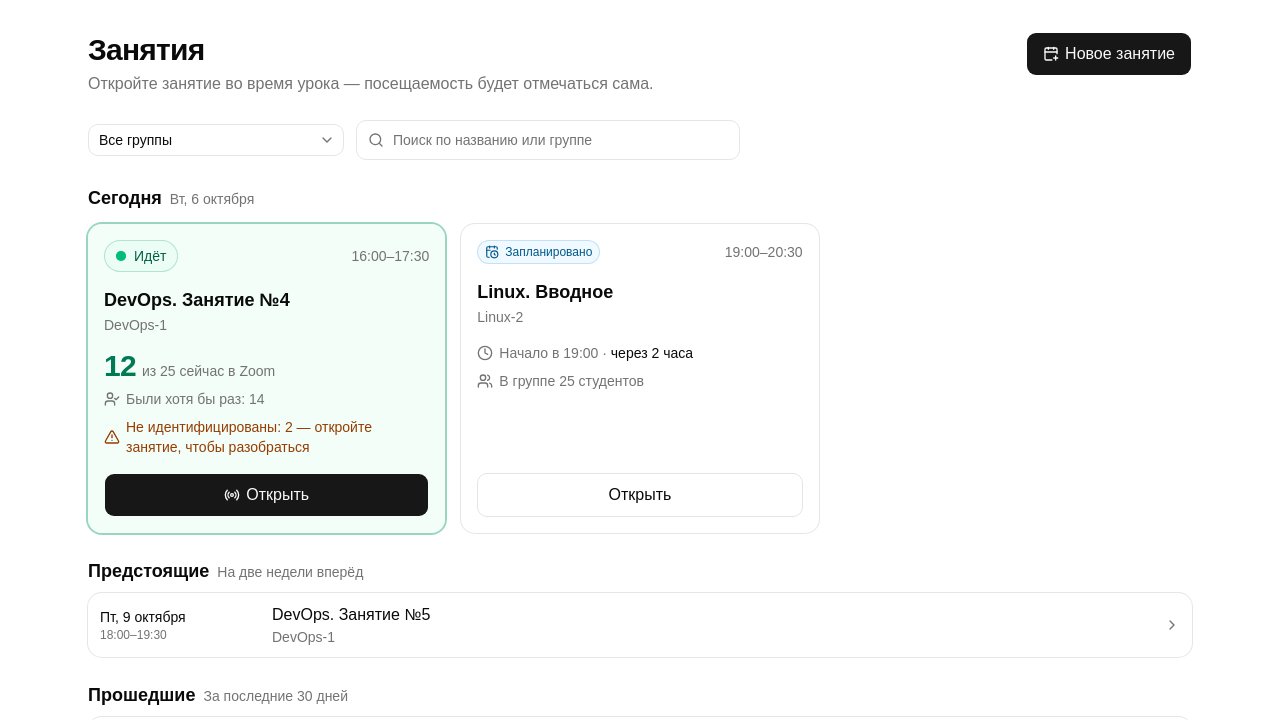
Test: LessonsPage › filters by group and by search text
Expected: the heading "Сегодня вт, 6 октября" is shown, [88, 188, 254, 208]
Click the dropdown named "Группа" at (216, 140), box [88, 124, 344, 156]
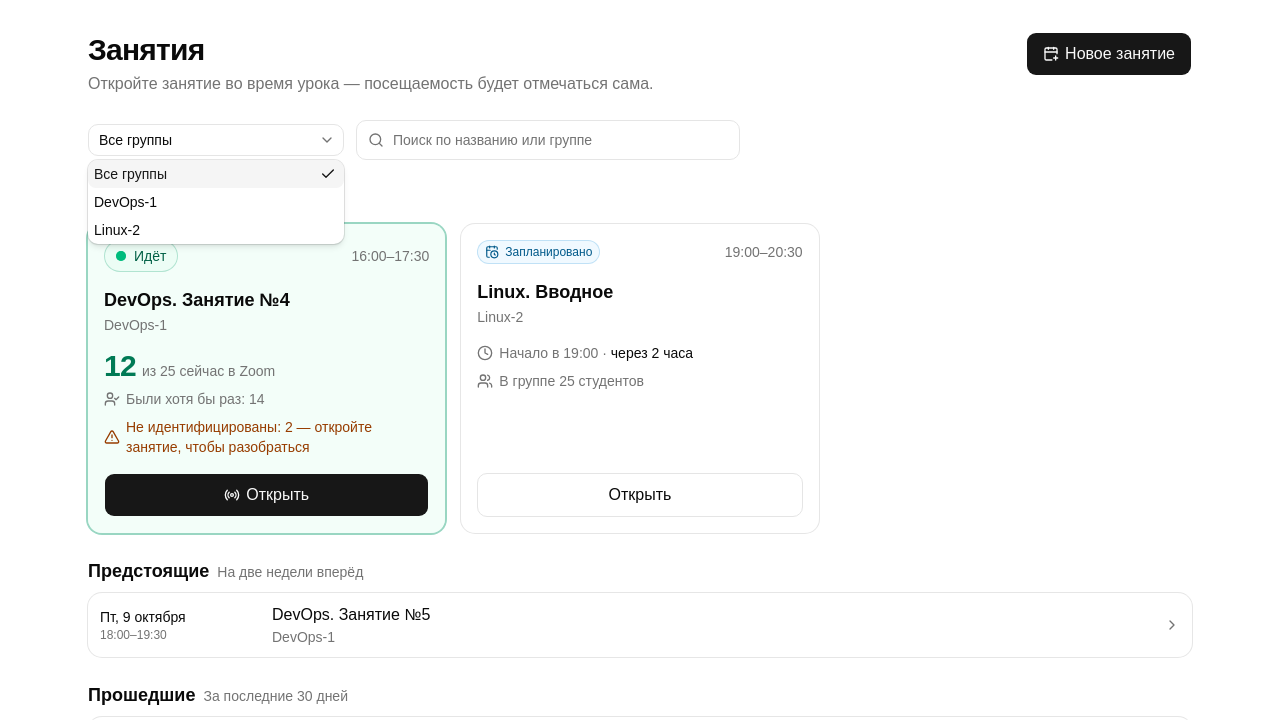
Click the option "Linux-2" at (117, 230), box [94, 222, 140, 238]
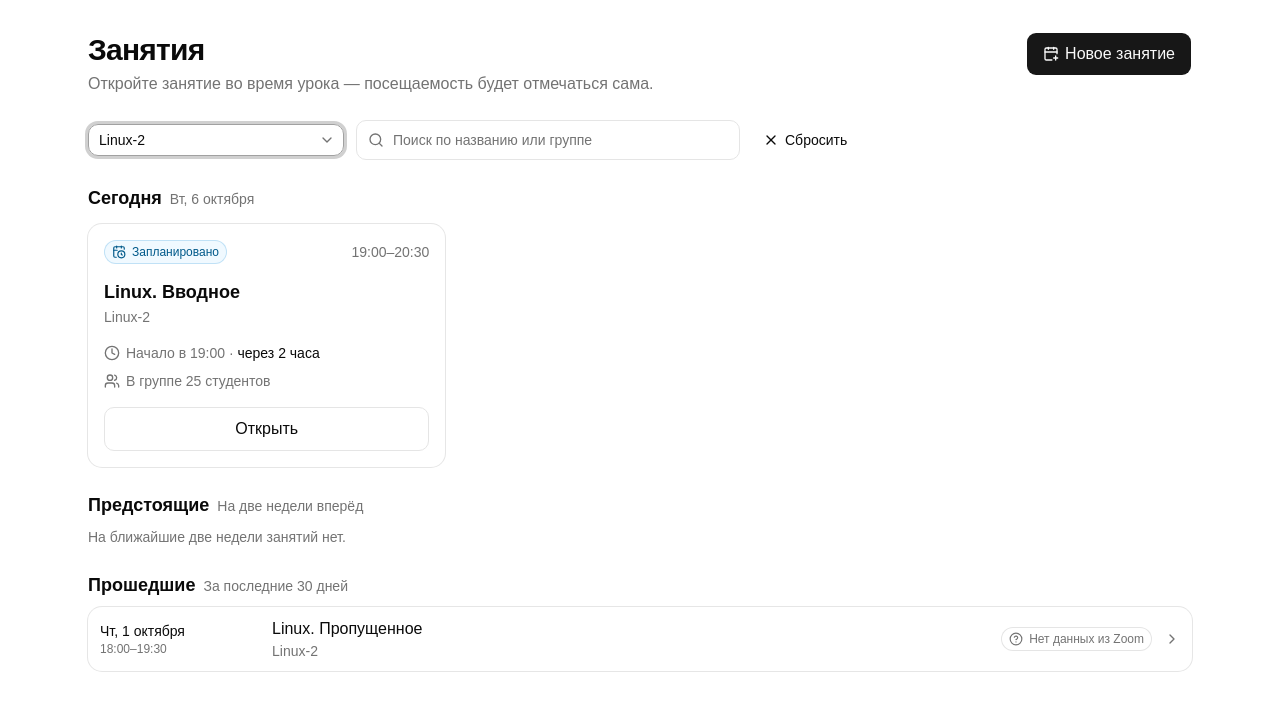
Expected: the element "Linux. Вводное" is shown, [88, 224, 445, 467]
Now the heading "DevOps. Занятие №4" is gone
Click the button "Сбросить" at (805, 140), box [752, 124, 858, 156]
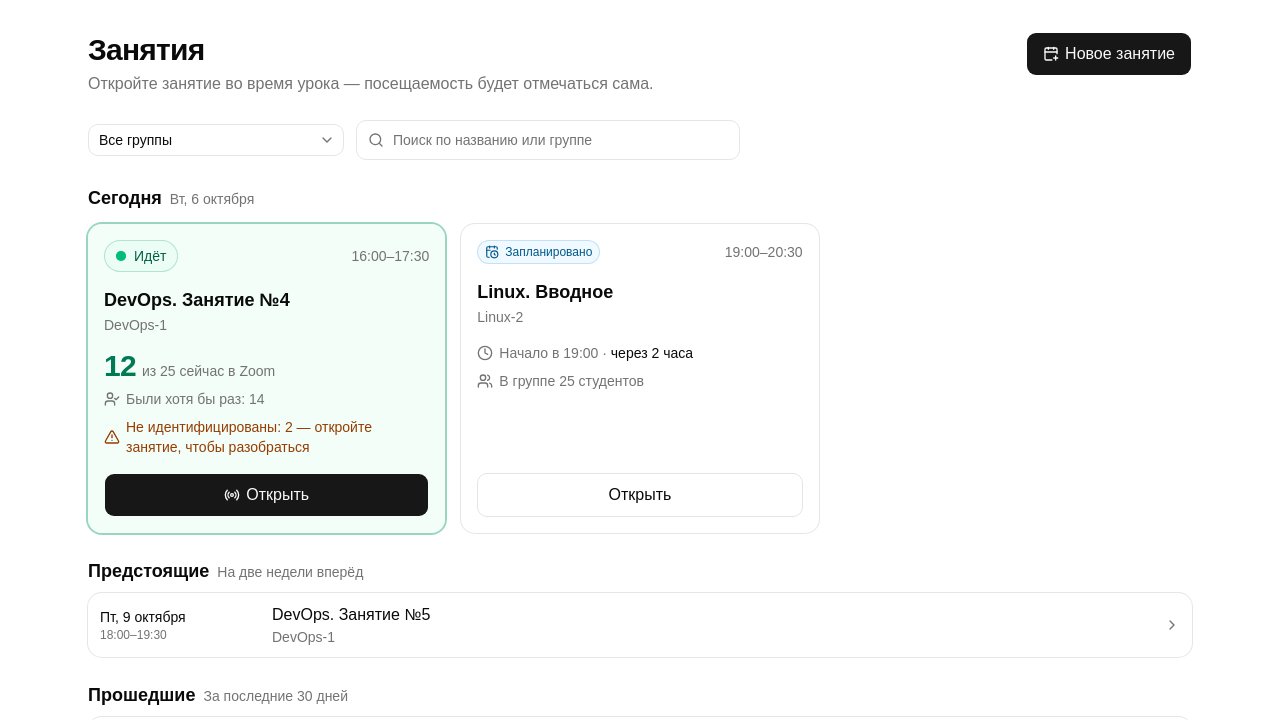
Now the element "DevOps. Занятие №4" is shown, box [88, 224, 445, 533]
Type "devops №5" into the search field labelled "Поиск по названию или группе" at (548, 140), box [356, 120, 740, 160]
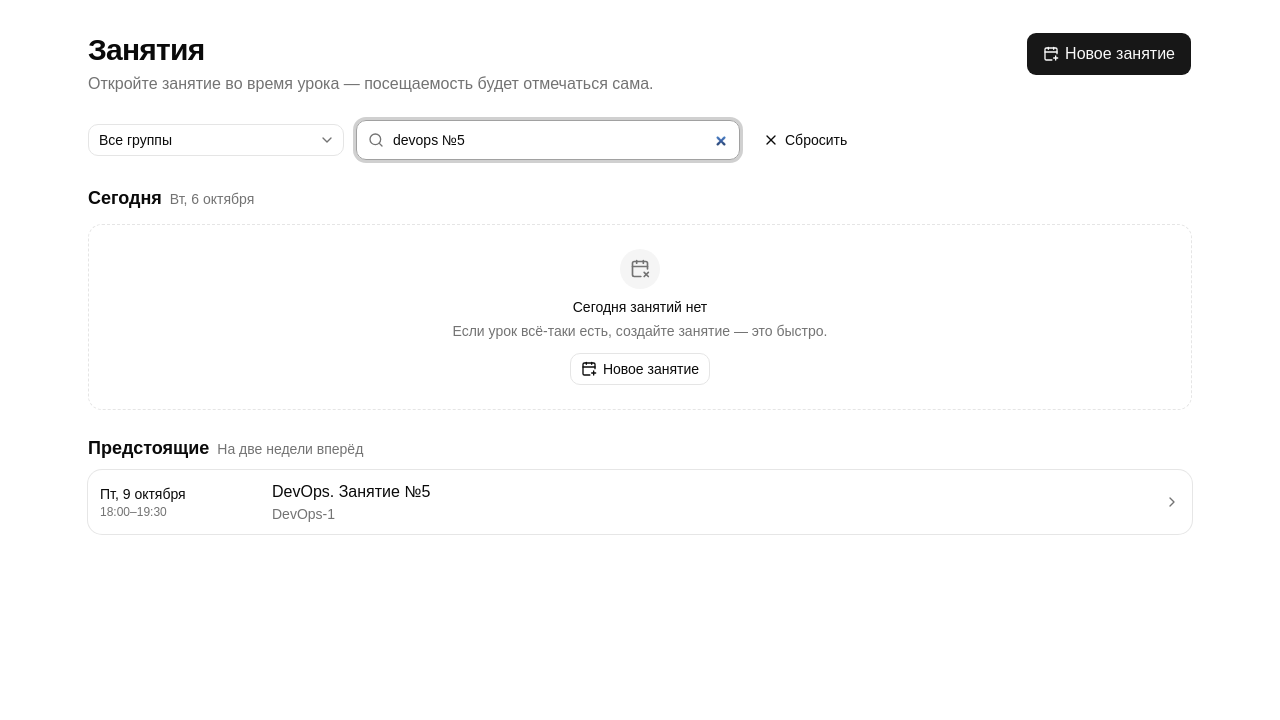
Now the text "Сегодня занятий нет" is shown, box [573, 299, 707, 315]
Type " химия" into the search field named "Поиск по названию или группе" at (548, 140), box [356, 120, 740, 160]
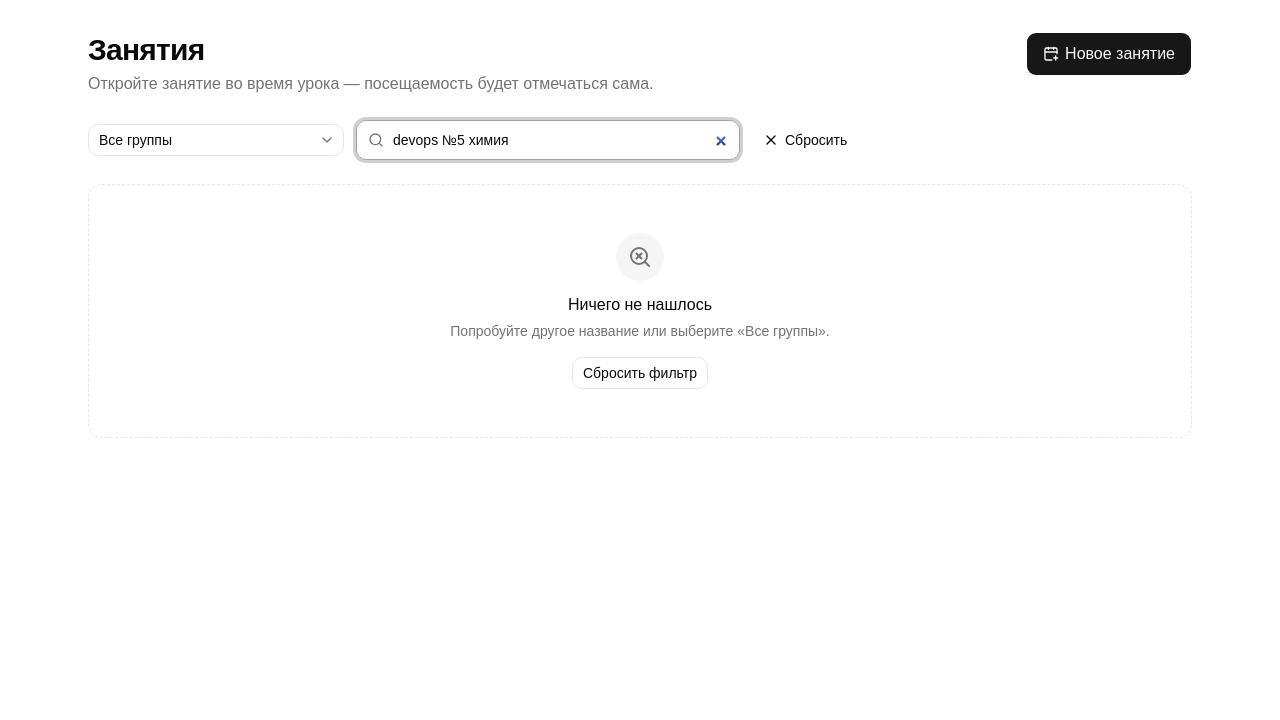
Now the text "Ничего не нашлось" is shown, box [568, 296, 712, 313]
Click the button "Сбросить фильтр" at (640, 373), box [572, 357, 708, 389]
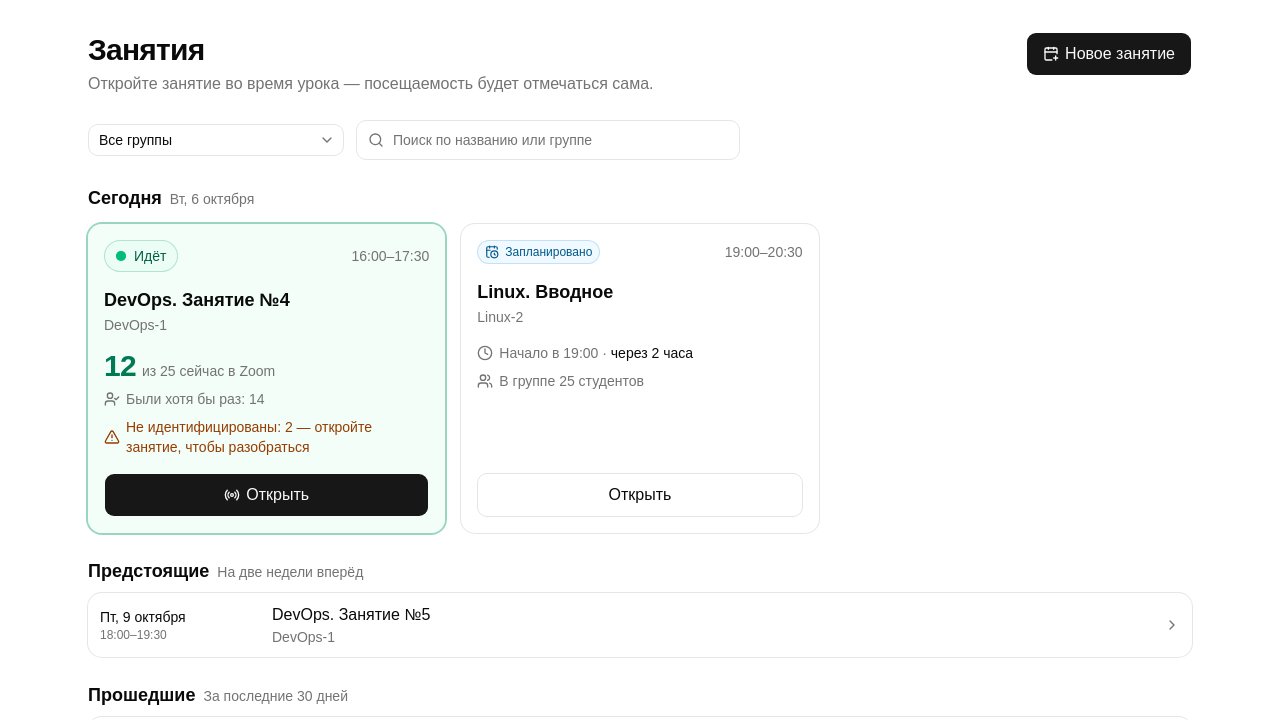
Now the search field labelled "Поиск по названию или группе" is empty, box [356, 120, 740, 160]
Now the element "DevOps. Занятие №4" is shown, box [88, 224, 445, 533]
